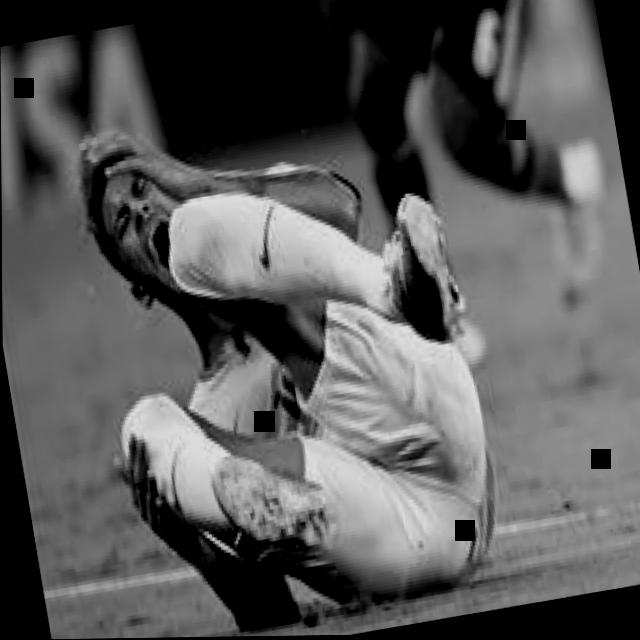Fall-Detected: (26, 20, 518, 640)
